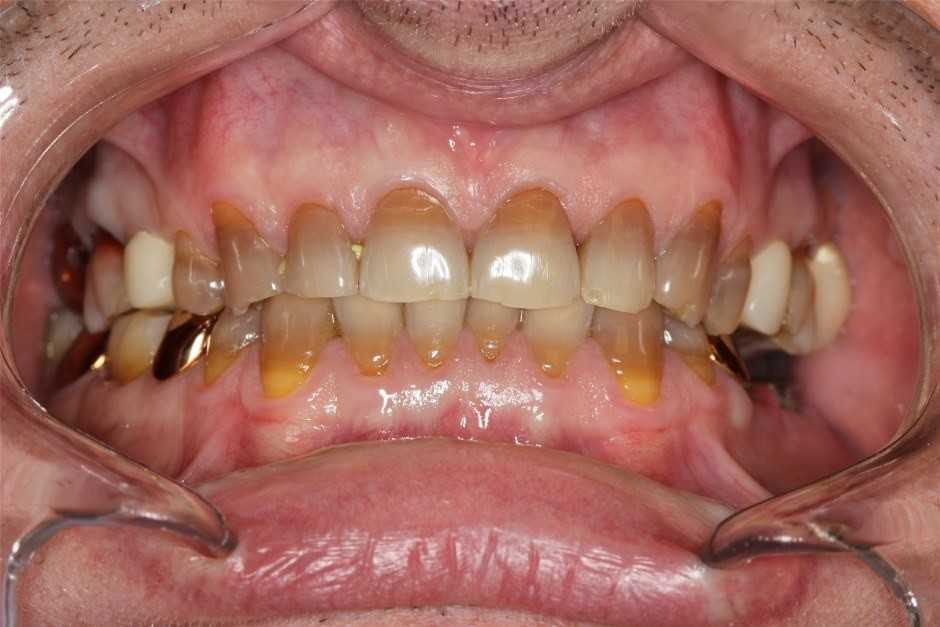UL1BC_decay: (711, 238, 753, 347)
UL2BC_healthy: (744, 237, 793, 335)
ULCI_decay: (472, 183, 583, 305)
ULC_decay: (659, 201, 718, 331)
ULLI_decay: (577, 195, 661, 317)
UR1BC_decay: (166, 229, 225, 319)
UR1M_decay: (69, 226, 129, 329)
UR2BC_healthy: (118, 228, 176, 308)
URCI_decay: (354, 183, 472, 310)
URC_decay: (211, 206, 289, 310)
URLI_decay: (276, 204, 363, 303)
